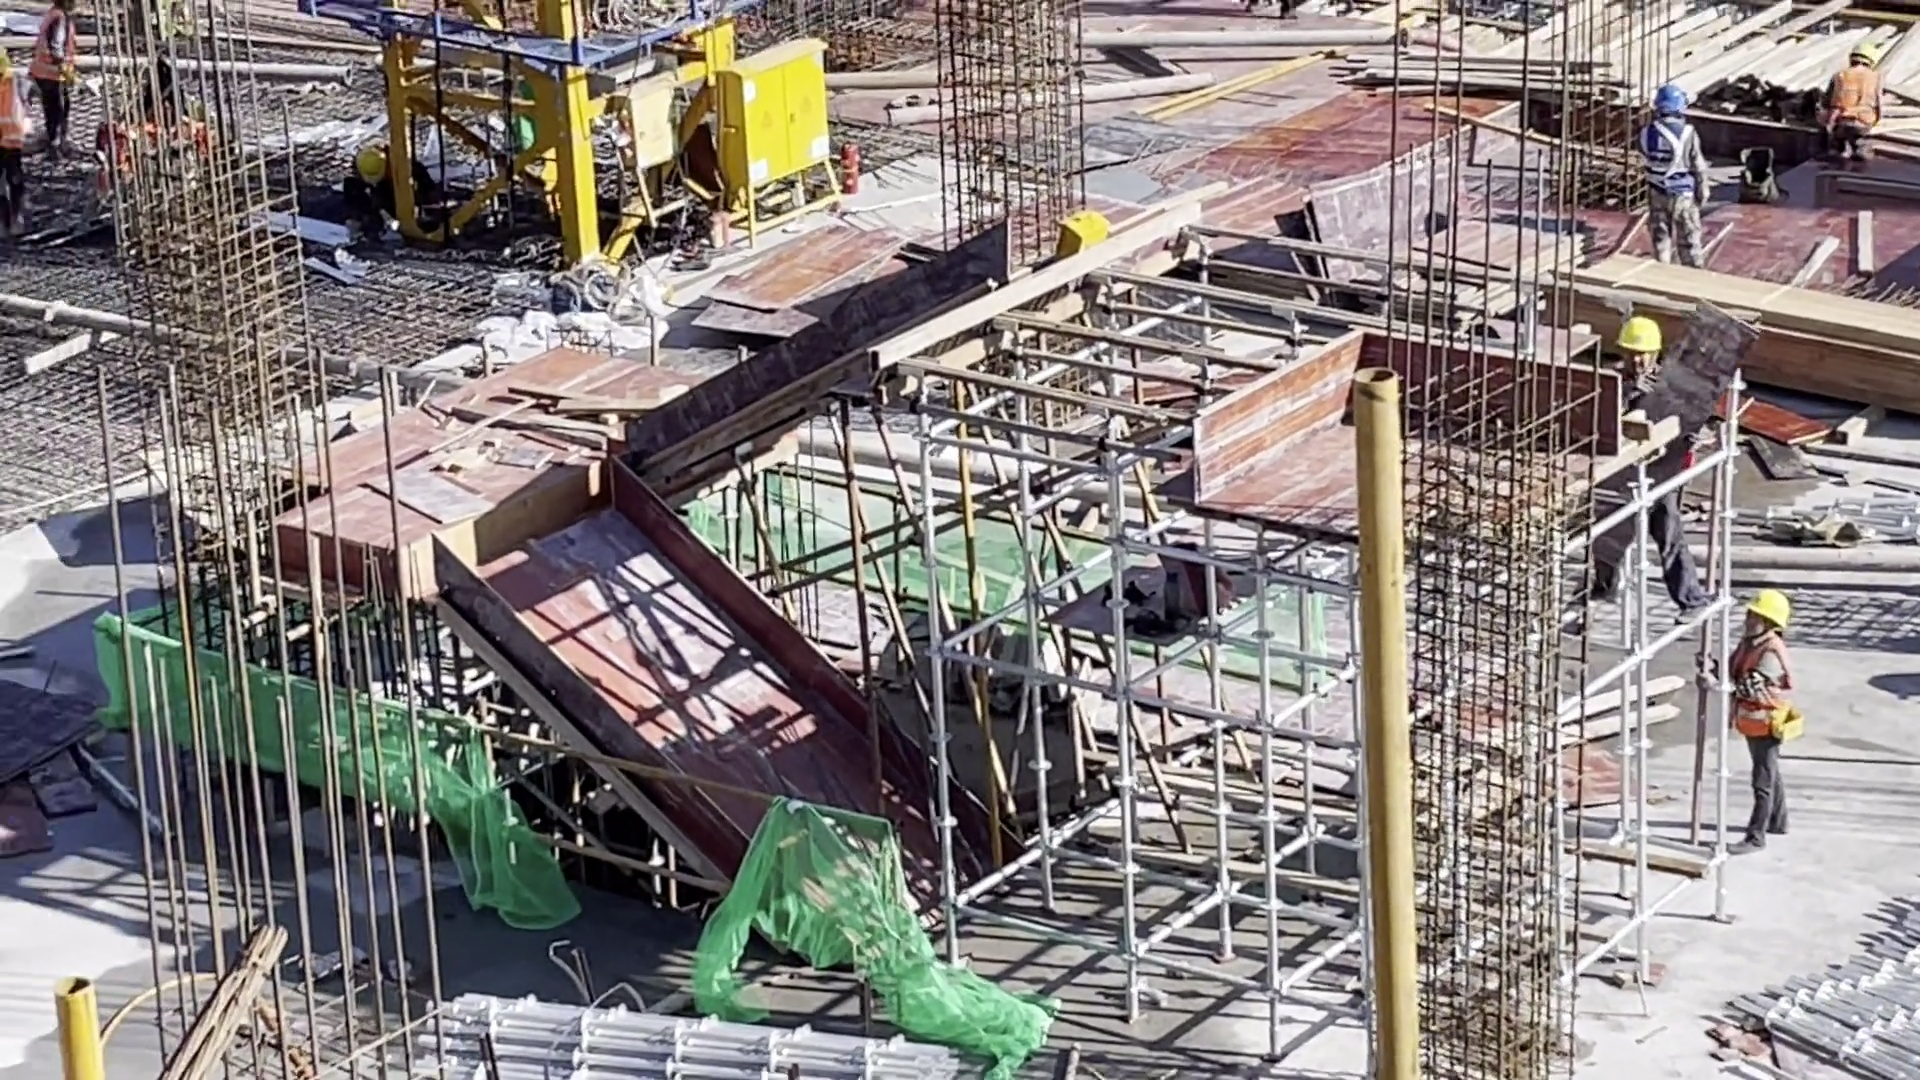helmet: (1750, 588, 1789, 625), (1618, 317, 1666, 346), (355, 145, 385, 190), (1654, 82, 1689, 114), (1851, 43, 1872, 65)
person: (1599, 319, 1714, 627), (1630, 78, 1719, 269), (1737, 589, 1795, 868), (338, 130, 440, 239), (23, 1, 86, 157), (1822, 43, 1882, 168), (3, 45, 24, 253)
vest: (1740, 638, 1794, 738), (1641, 119, 1698, 191), (35, 6, 84, 87), (1829, 64, 1877, 130)
